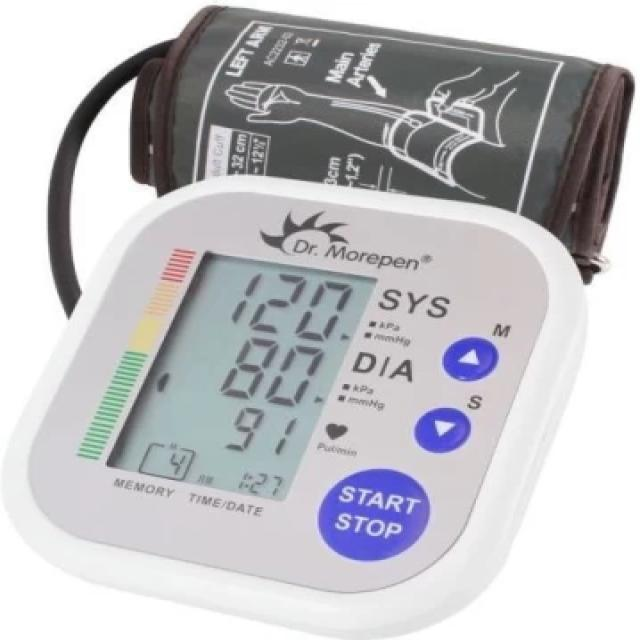dia: (203, 325, 335, 415)
pul: (209, 395, 308, 464)
ssd: (104, 208, 379, 535)
sys: (217, 262, 362, 349)
